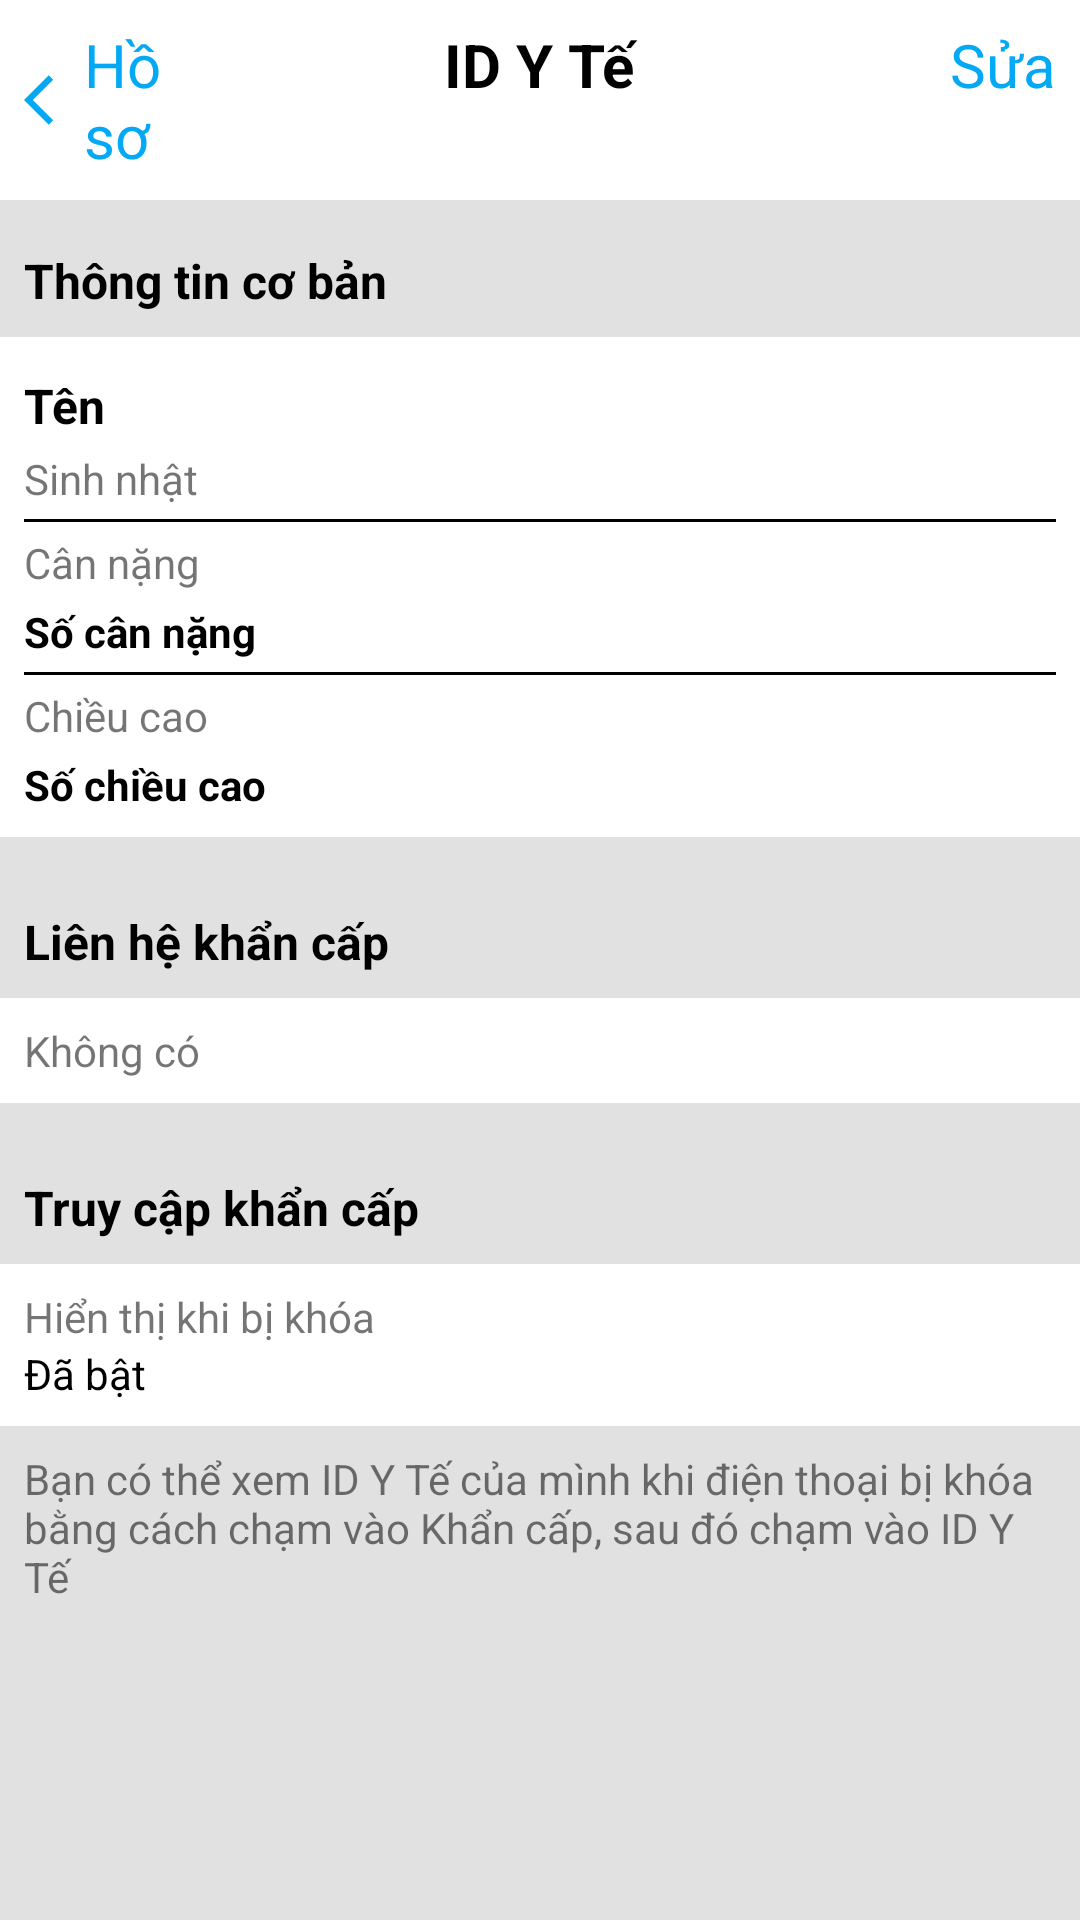

Icon bounding boxes for this 1080×1920 phone screenshot, format (x1, y1, x2, y2):
arrow back: (24, 75, 53, 125)
